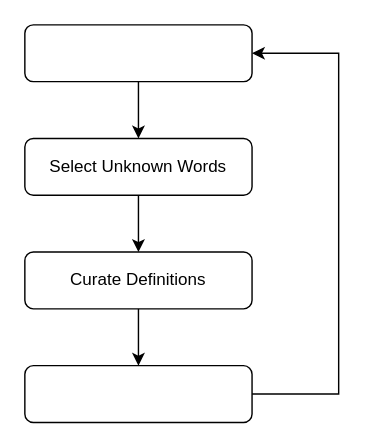
The diagram is 375 pixels wide and 447 high, and some of its shapes have lost their labels. Here are the shapes that lost their labels. From the top down, the centre of each, then its label:
the point at 137,52: Input Sentence
the point at 137,393: Card Settings
